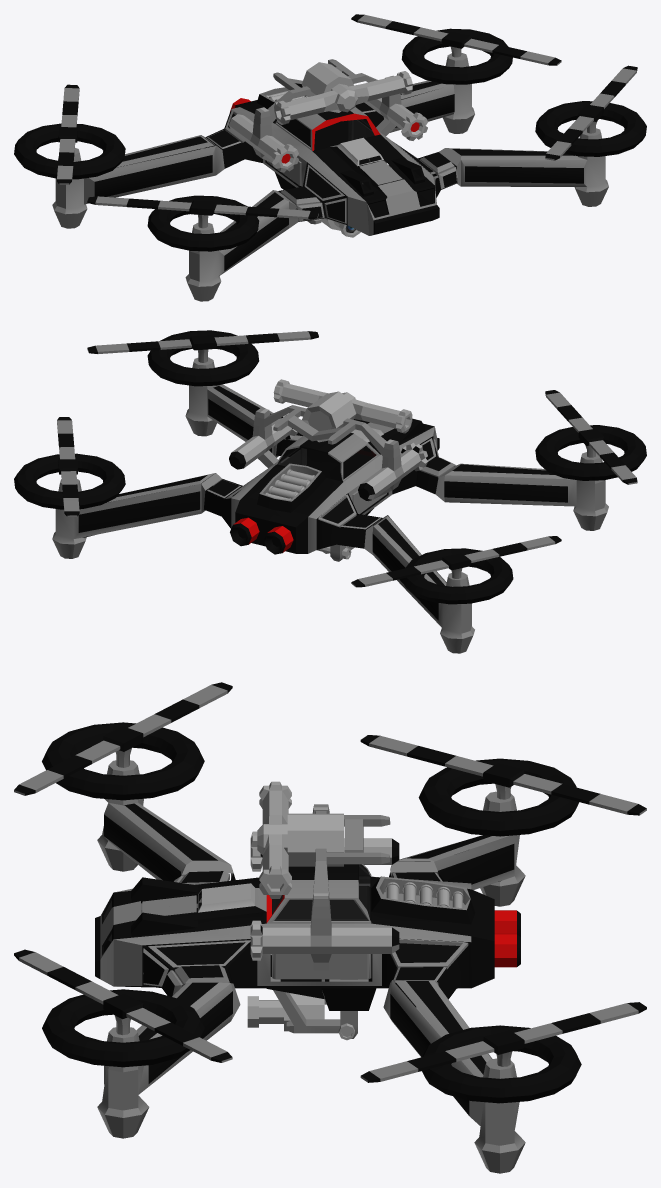
The model's file is dronee.obj.
3 renders of one model, top to bottom at view 1: azimuth 30°, elevation 25°; view 2: azimuth 150°, elevation 25°; view 3: azimuth 270°, elevation 25°, orthographic. The views are drawn at different scales.
Visible parts, largest first — view 1: drone_costum_Cube; view 2: drone_costum_Cube; view 3: drone_costum_Cube.
Boxes of the visible parts, box(x1,y1,x2,y2) form: drone_costum_Cube: box(14, 14, 646, 301); drone_costum_Cube: box(14, 330, 646, 653); drone_costum_Cube: box(14, 682, 646, 1173).
Size of the model in its own units: 1.09 by 0.2961 by 0.7734.
Materials: 7 (2 with a texture image).
